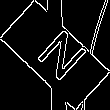N_SW: (24, 23, 86, 87)
